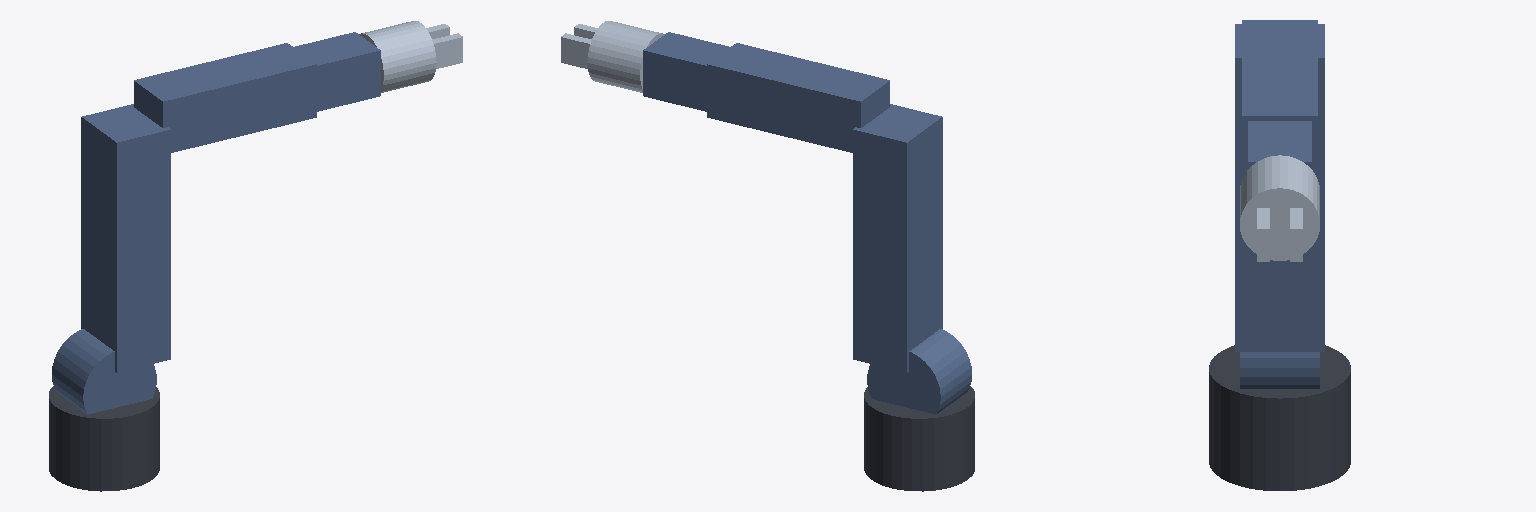
URDF robot description (x250):
<?xml version="1.0"?>
<!--
  X250 (WidowX-250-class, 5 DoF + parallel gripper) — a KINEMATIC SKETCH, not a
  vendor URDF.

  READ THIS BEFORE TRUSTING A NUMBER IN IT.

  There is no X250 URDF on this rig and none in this repo: no Interbotix ROS install,
  nothing in site-packages, no meshes. So this file was WRITTEN, and it separates two
  very different kinds of number.

  WHAT IS MEASURED, and can be relied on:
    * the joint STRUCTURE — base yaw, three parallel pitches, a tool roll, then the
      jaws. That comes from the arm itself: a broadcast ping found ids 2..7, and
      `x250_driver.MOTOR_IDS` names them base / shoulder_2 / elbow / wrist / tool /
      gripper. Five actuated joints to the hand, in that order.
    * the joint TRAVEL. Each <limit> below is the arm's own calibrated tick range
      (~/.cache/huggingface/lerobot/calibration/robots/x250_follower.json) converted
      at 360deg/4096 ticks. See x250/normalise.py, which is the one place that
      conversion lives.

  WHAT IS NOMINAL, and is NOT a measurement of this arm:
    * every <origin xyz> — i.e. every LINK LENGTH. These are plausible figures for a
      250-class arm, chosen so the rendered arm has roughly the right proportions and
      roughly the right reach. Nobody has put a ruler on this robot.
    * therefore the absolute scale of the 3D view, and any reach number derived from
      it.

  WHAT THAT MEANS IN PRACTICE. The rendered arm moves CORRECTLY — the base swings the
  right way, the elbow folds the right way, the hand arrives from the right bearing —
  because motion direction comes from the axes and the travel, both of which are real.
  What is approximate is how LONG each segment is drawn. So use this view to watch an
  approach happen; do not use it to decide whether something is in reach.

  TO CORRECT IT, replace the xyz values with tape-measure distances between joint
  axes (they are all easy to reach on this arm), or drop the genuine Interbotix URDF
  into this directory and repoint `urdf=` in profiles/x250.py at it — the profile is
  the only thing that names this file.

  CONVENTIONS, matching the SO-101 URDF next door: X forward, Y left, Z up, metres
  and radians, <origin rpy> extrinsic X-Y-Z. At the all-zero pose the upper arm
  stands straight up and the forearm reaches forward, which is the Interbotix zero.

  VISUALS ARE PRIMITIVES (box / cylinder), deliberately. The viewer tessellates them
  (robots/urdf_visuals.py), so the 3D view needs no STL files that do not exist. A
  real mesh URDF drops in without changing the viewer.
-->
<robot name="x250">

  <!-- ============================ links ============================ -->

  <link name="base_link">
    <visual>
      <origin xyz="0 0 0.0395" rpy="0 0 0"/>
      <geometry><cylinder radius="0.055" length="0.079"/></geometry>
      <material name="x250_dark"><color rgba="0.29 0.31 0.35 1"/></material>
    </visual>
  </link>

  <!-- The yaw turret. Drawn as the shoulder axis housing, lying along Y. -->
  <link name="shoulder_link">
    <visual>
      <origin xyz="0 0 0.020" rpy="1.5708 0 0"/>
      <geometry><cylinder radius="0.042" length="0.062"/></geometry>
      <material name="x250_body"><color rgba="0.39 0.47 0.60 1"/></material>
    </visual>
  </link>

  <!-- Upper arm: stands up from the shoulder at the zero pose. -->
  <link name="upper_arm_link">
    <visual>
      <origin xyz="0.025 0 0.125" rpy="0 0 0"/>
      <geometry><box size="0.062 0.070 0.250"/></geometry>
      <material name="x250_body"/>
    </visual>
  </link>

  <!-- Forearm: reaches forward from the elbow at the zero pose. -->
  <link name="forearm_link">
    <visual>
      <origin xyz="0.0875 0 0" rpy="0 0 0"/>
      <geometry><box size="0.175 0.058 0.058"/></geometry>
      <material name="x250_body"/>
    </visual>
  </link>

  <link name="wrist_link">
    <visual>
      <origin xyz="0.0375 0 0" rpy="0 0 0"/>
      <geometry><box size="0.075 0.050 0.050"/></geometry>
      <material name="x250_body"/>
    </visual>
  </link>

  <!-- The roll body the jaws hang off. -->
  <link name="gripper_link">
    <visual>
      <origin xyz="0.030 0 0" rpy="0 1.5708 0"/>
      <geometry><cylinder radius="0.031" length="0.060"/></geometry>
      <material name="x250_hand"><color rgba="0.74 0.78 0.84 1"/></material>
    </visual>
  </link>

  <!-- The grasp centre: the frame the pick aims at. No visual of its own; the jaws
       below straddle it, which is the whole point of putting it between them. -->
  <link name="gripper_frame_link"/>

  <!-- The two jaws. NOT on the chain to gripper_frame_link, so forward kinematics
       ignores them and the viewer poses them from gripper_link by hand — exactly as
       the SO-101 viewer already does for its moving jaw (see JAW_T there). -->
  <link name="left_finger_link">
    <visual>
      <origin xyz="0.024 0 0" rpy="0 0 0"/>
      <geometry><box size="0.048 0.010 0.028"/></geometry>
      <material name="x250_hand"/>
    </visual>
  </link>
  <link name="right_finger_link">
    <visual>
      <origin xyz="0.024 0 0" rpy="0 0 0"/>
      <geometry><box size="0.048 0.010 0.028"/></geometry>
      <material name="x250_hand"/>
    </visual>
  </link>

  <!-- ============================ joints ============================ -->
  <!-- Every <limit> is this arm's OWN calibrated travel (its tick range at 360/4096 deg
       per tick), EXPRESSED ABOUT THIS URDF'S ZERO. That second clause is load-bearing
       and was got wrong once: the limits were first written symmetric, as plus or minus
       half the travel, which is only correct if the URDF zero sits at the centre of the
       calibrated range. It does NOT. x250/normalise.ZERO_NORM offsets it, fitted to the
       demonstrated grasp pose, so the window is asymmetric; writing it symmetric put the
       demonstrated shoulder_2 envelope 9.6 deg OUTSIDE the travel the arm supposedly had.
       So: THE LIMITS AND ZERO_NORM ARE COUPLED. Regenerate these whenever ZERO_NORM
       changes; a test pins the relationship so it cannot drift silently.
       Rounded OUTWARD, because rounding a limit inward clamps away travel the arm
       really has.
       The demonstrated SAFE box is much tighter than any of this and is carried by the
       PROFILE (safe_envelope.json), not by this file. -->

  <joint name="base" type="revolute">
    <parent link="base_link"/>
    <child link="shoulder_link"/>
    <origin xyz="0 0 0.079" rpy="0 0 0"/>
    <axis xyz="0 0 1"/>
    <!-- 0..4095 ticks: the UNRANGED Dynamixel default, so this is 'a full turn' and
         means nobody has ranged this joint. -->
    <limit lower="-3.059165" upper="3.222488" effort="10" velocity="3.0"/>
  </joint>

  <joint name="shoulder_2" type="revolute">
    <parent link="shoulder_link"/>
    <child link="upper_arm_link"/>
    <origin xyz="0 0 0.040" rpy="0 0 0"/>
    <axis xyz="0 1 0"/>
    <!-- 2181 ticks = 191.69 deg of travel, measured. -->
    <limit lower="-1.840924" upper="1.504690" effort="10" velocity="3.0"/>
  </joint>

  <joint name="elbow" type="revolute">
    <parent link="upper_arm_link"/>
    <child link="forearm_link"/>
    <origin xyz="0.050 0 0.250" rpy="0 0 0"/>
    <axis xyz="0 1 0"/>
    <!-- 1226 ticks = 107.75 deg of travel, measured. -->
    <limit lower="-0.944656" upper="0.936005" effort="10" velocity="3.0"/>
  </joint>

  <joint name="wrist" type="revolute">
    <parent link="forearm_link"/>
    <child link="wrist_link"/>
    <origin xyz="0.175 0 0" rpy="0 0 0"/>
    <axis xyz="0 1 0"/>
    <!-- 0..4095 ticks: the UNRANGED Dynamixel default, as with base. -->
    <limit lower="-1.641396" upper="4.640256" effort="10" velocity="3.0"/>
  </joint>

  <joint name="tool" type="revolute">
    <parent link="wrist_link"/>
    <child link="gripper_link"/>
    <origin xyz="0.075 0 0" rpy="0 0 0"/>
    <axis xyz="1 0 0"/>
    <!-- 2461 ticks = 216.30 deg of travel, measured. -->
    <limit lower="-2.622260" upper="1.152868" effort="10" velocity="3.0"/>
  </joint>

  <joint name="ee_fixed" type="fixed">
    <parent link="gripper_link"/>
    <child link="gripper_frame_link"/>
    <origin xyz="0.080 0 0" rpy="0 0 0"/>
  </joint>

  <!-- The jaws open along the hand's Y. `gripper` is one actuator driving both, so
       the right finger MIRRORS it; the viewer applies the same displacement with the
       sign flipped rather than pretending there are two motors. -->
  <joint name="gripper_left" type="prismatic">
    <parent link="gripper_link"/>
    <child link="left_finger_link"/>
    <origin xyz="0.050 0.013 0" rpy="0 0 0"/>
    <axis xyz="0 1 0"/>
    <limit lower="0.0" upper="0.022" effort="10" velocity="0.2"/>
  </joint>
  <joint name="gripper_right" type="prismatic">
    <parent link="gripper_link"/>
    <child link="right_finger_link"/>
    <origin xyz="0.050 -0.013 0" rpy="0 0 0"/>
    <axis xyz="0 -1 0"/>
    <limit lower="0.0" upper="0.022" effort="10" velocity="0.2"/>
  </joint>

</robot>

--- What the picture shows (computed from the rendered views, not written in the file) ---
The picture shows the robot from 3 angles, left to right: view 1: azimuth 30°, elevation 25°; view 2: azimuth 150°, elevation 25°; view 3: azimuth 270°, elevation 25°; orthographic projection.
Robot: x250 — 9 links, 8 joints (5 revolute, 2 prismatic, 1 fixed); root link base_link; default pose: every joint at zero.
Visible links, largest first — view 1: upper_arm_link, forearm_link, base_link, shoulder_link, wrist_link, gripper_link, right_finger_link; view 2: upper_arm_link, forearm_link, base_link, shoulder_link, wrist_link, gripper_link, left_finger_link; view 3: base_link, upper_arm_link, forearm_link, gripper_link, shoulder_link, wrist_link, left_finger_link, right_finger_link.
Boxes of the visible links, x1,y1,x2,y2 form: upper_arm_link: (81, 104, 170, 372); forearm_link: (134, 43, 316, 152); base_link: (49, 386, 159, 491); shoulder_link: (52, 329, 156, 414); wrist_link: (294, 32, 380, 111); gripper_link: (359, 21, 436, 92); right_finger_link: (432, 33, 462, 68); upper_arm_link: (853, 104, 942, 372); forearm_link: (707, 43, 889, 152); base_link: (864, 386, 974, 491); shoulder_link: (867, 329, 971, 414); wrist_link: (643, 32, 729, 111); gripper_link: (587, 21, 664, 92); left_finger_link: (561, 33, 591, 68); base_link: (1209, 345, 1350, 490); upper_arm_link: (1235, 24, 1324, 351); forearm_link: (1242, 20, 1317, 178); gripper_link: (1240, 155, 1319, 260); shoulder_link: (1240, 352, 1319, 388); wrist_link: (1248, 121, 1311, 168); left_finger_link: (1290, 208, 1302, 261); right_finger_link: (1257, 208, 1269, 261).
Bounding box of the posed robot: 0.453 × 0.11 × 0.4 m (x, y, z).
Geometry: primitives only (box / cylinder / sphere), no mesh files.
